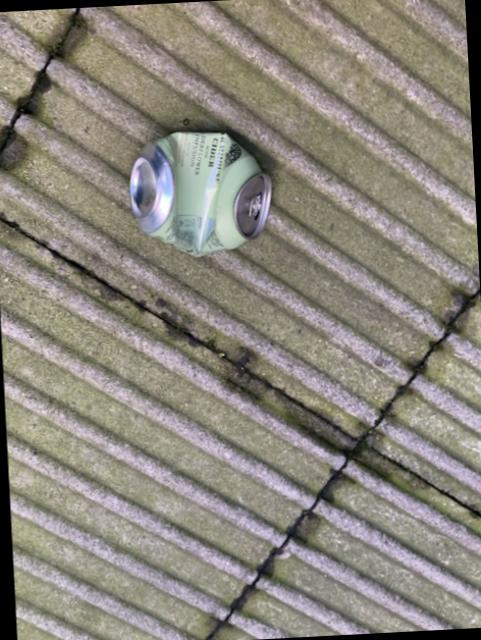metal: (131, 134, 272, 258)
